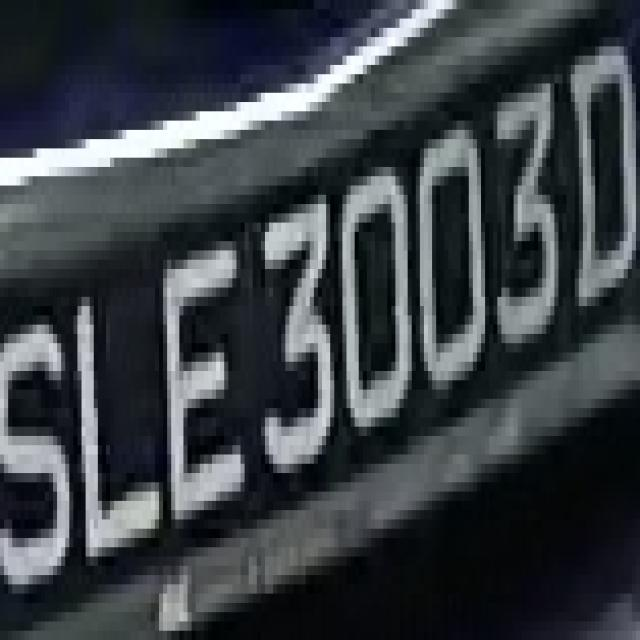0: (408, 121, 493, 436), (326, 176, 416, 464)
3: (473, 37, 562, 353), (245, 195, 330, 501)
D: (566, 27, 640, 343)
E: (146, 241, 245, 575)
L: (61, 288, 155, 575)
S: (4, 296, 69, 594)
